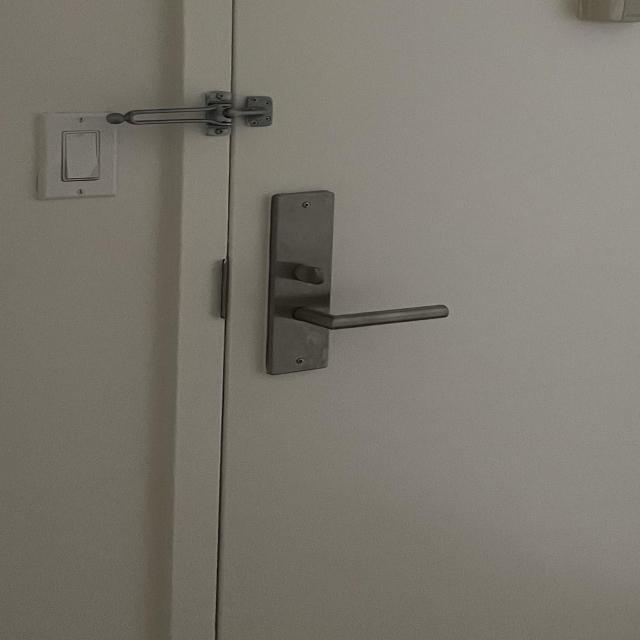door_handle: (262, 295, 461, 338)
